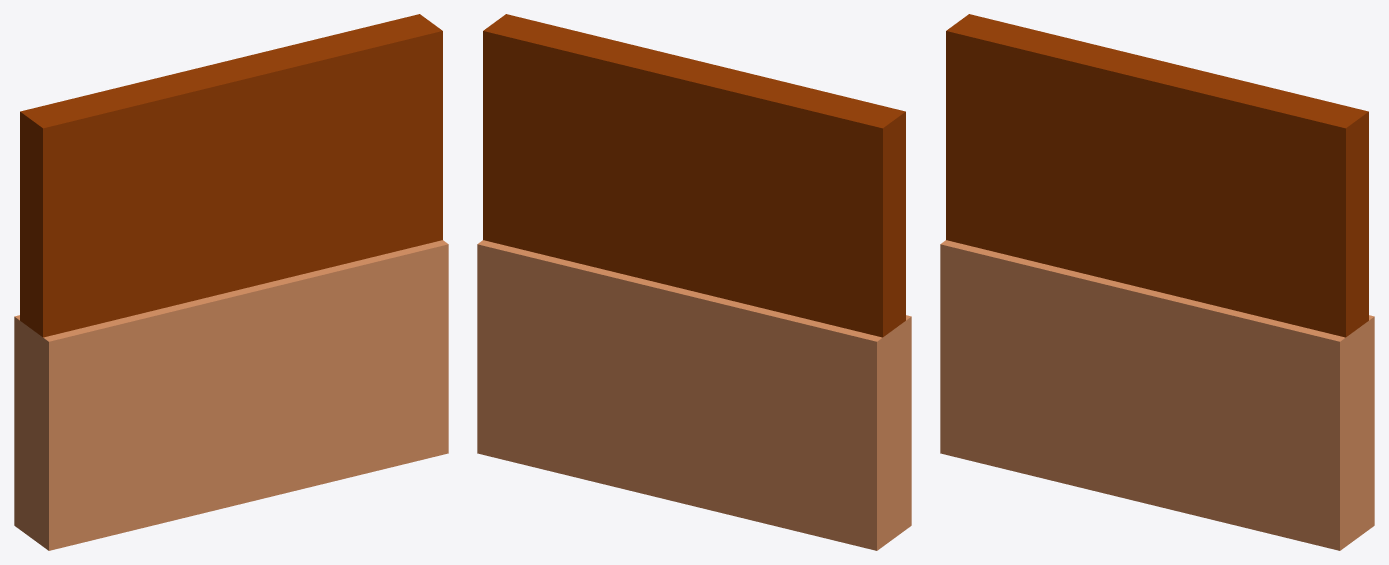
The model's file is Meeting-Room-Wall-1.fbx.
3 renders of one model, left to right at view 1: azimuth 30°, elevation 25°; view 2: azimuth 150°, elevation 25°; view 3: azimuth 330°, elevation 25°, orthographic.
Parts seen in each view (by area): view 1: Meeting-Room-Wall-1; view 2: Meeting-Room-Wall-1; view 3: Meeting-Room-Wall-1.
Part boxes in pixels (x1,y1,x2,y2): Meeting-Room-Wall-1: (14,14,448,550); Meeting-Room-Wall-1: (477,14,911,550); Meeting-Room-Wall-1: (940,14,1374,550).
Bounding box in the file's own units: 2 × 2 × 0.3.
